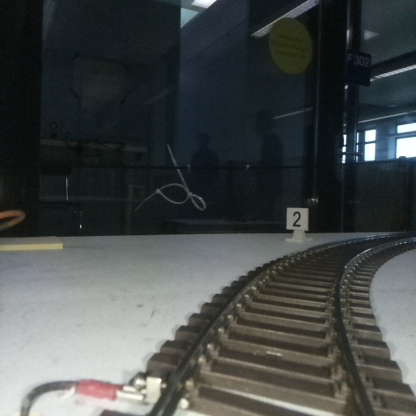white-stop-2: (287, 208, 308, 241)
